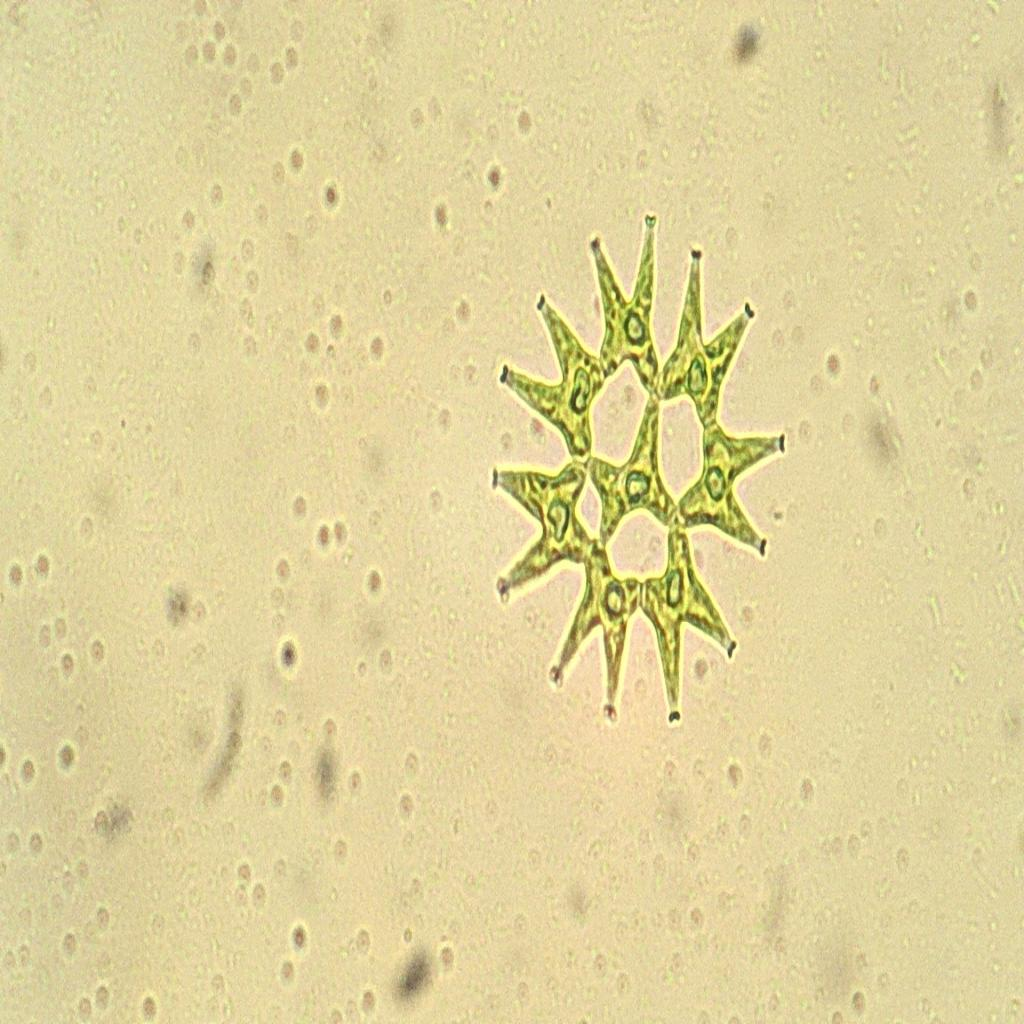Pediastrum_CTH: (478, 199, 803, 760)
